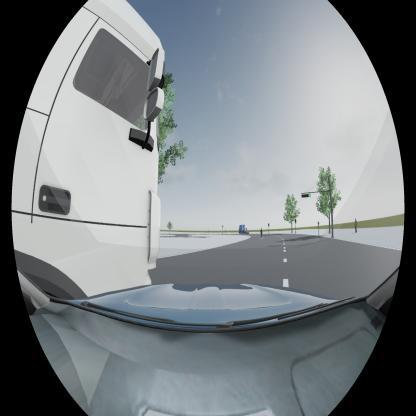Green Light: (302, 193, 310, 198), (294, 219, 296, 224)
